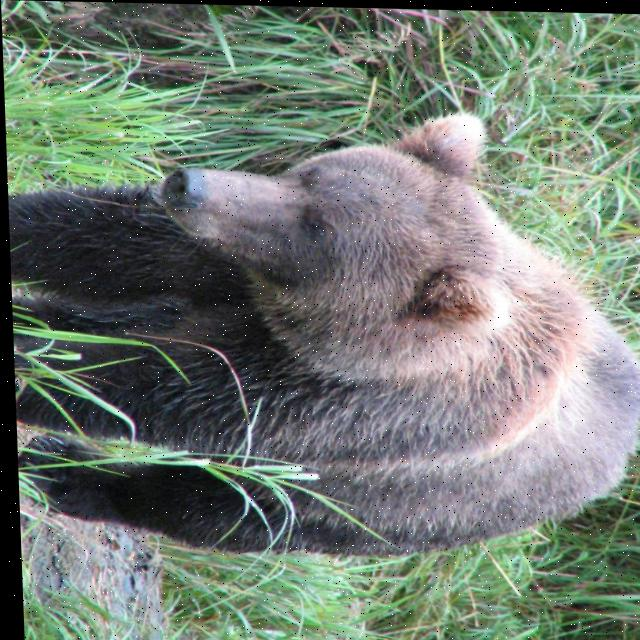bear face: (3, 104, 640, 561)
